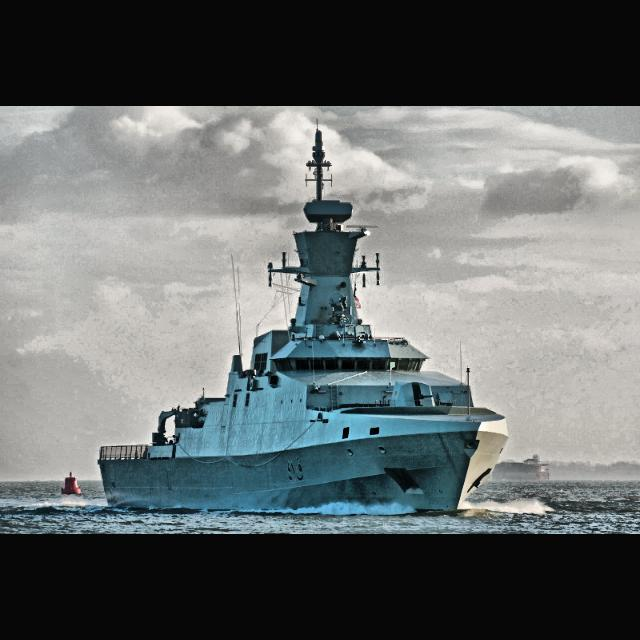buoy: (60, 470, 82, 498)
combat_vessel: (93, 186, 513, 520)
